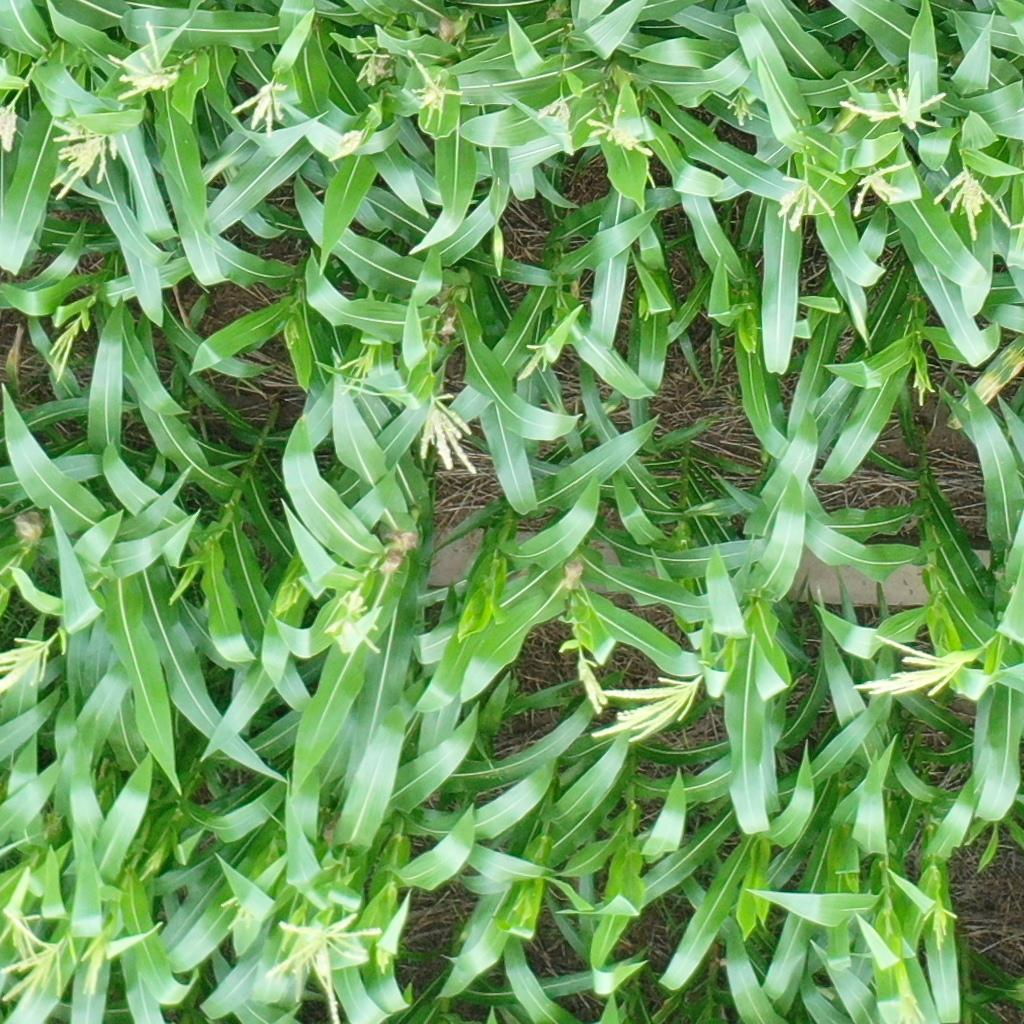Tassel: (265, 911, 381, 1024), (853, 633, 989, 700), (592, 676, 706, 745), (931, 164, 1023, 240), (1, 907, 68, 1004), (49, 117, 120, 201), (107, 21, 179, 100), (417, 392, 480, 475), (403, 49, 464, 132), (838, 85, 946, 130), (320, 586, 385, 658), (586, 103, 660, 158), (849, 159, 914, 217), (229, 78, 290, 139), (778, 174, 837, 233), (1, 635, 53, 693), (47, 316, 84, 386), (335, 339, 378, 399), (575, 645, 608, 714), (83, 939, 115, 999), (354, 34, 391, 85), (923, 905, 959, 955), (516, 342, 554, 384), (327, 129, 367, 163), (218, 895, 253, 931), (538, 96, 575, 125), (1, 99, 20, 153), (726, 91, 755, 126), (893, 994, 923, 1024), (139, 848, 160, 883), (914, 373, 932, 408)
